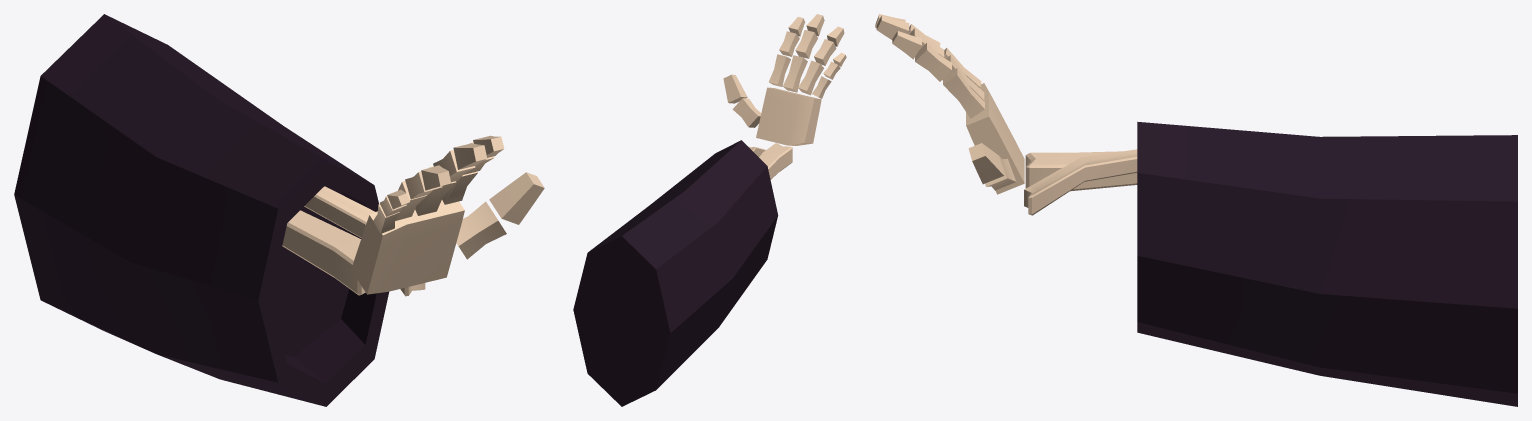
Rendered from TrainJam_Right_Hand.fbx.
3 renders of one model, left to right at view 1: azimuth 30°, elevation 25°; view 2: azimuth 150°, elevation 25°; view 3: azimuth 270°, elevation 25°, orthographic. The views are drawn at different scales.
Parts seen in each view (by area): view 1: polySurface37; view 2: polySurface37; view 3: polySurface37.
Boxes of the visible parts, x1,y1,x2,y2 form: polySurface37: [14, 14, 544, 406]; polySurface37: [573, 14, 846, 406]; polySurface37: [875, 14, 1517, 406].
Size of the model in its own units: 0.5719 by 1.17 by 1.75.
